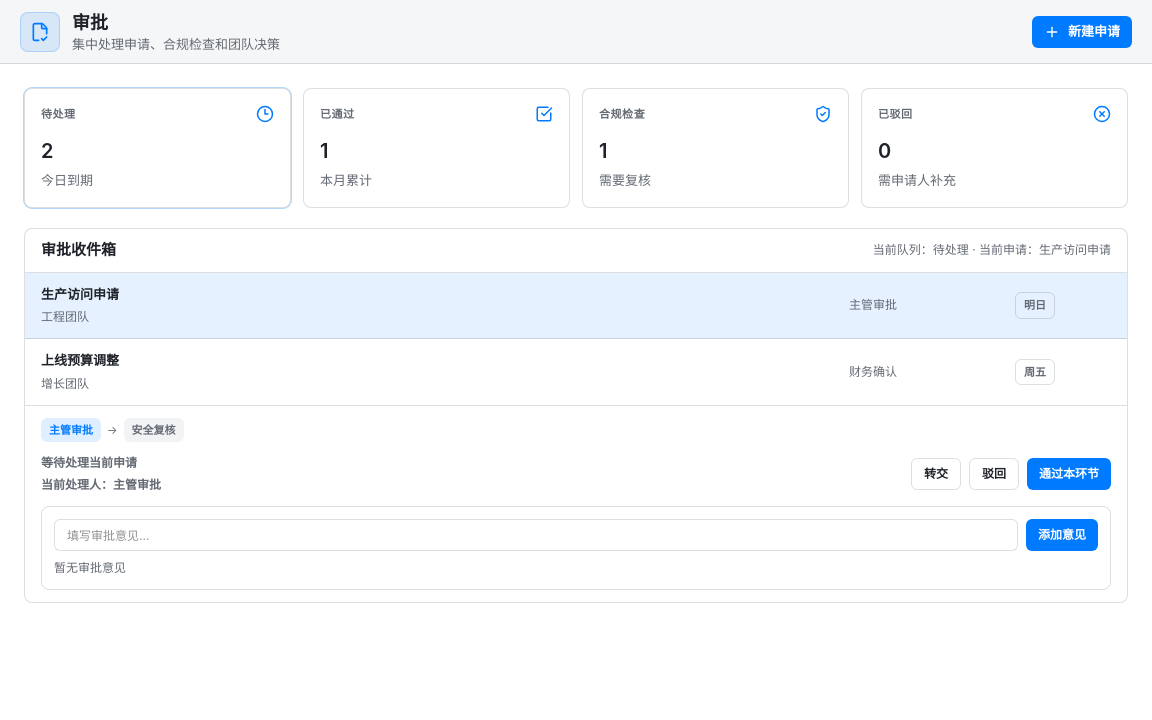
Test case: workspace secondary pages › lets approvals filter queues and create a request locally
The width and height of the screenshot is (1152, 720).
Click the element with test id "approvals-queue-compliance" at (716, 148), box [582,88,849,208]
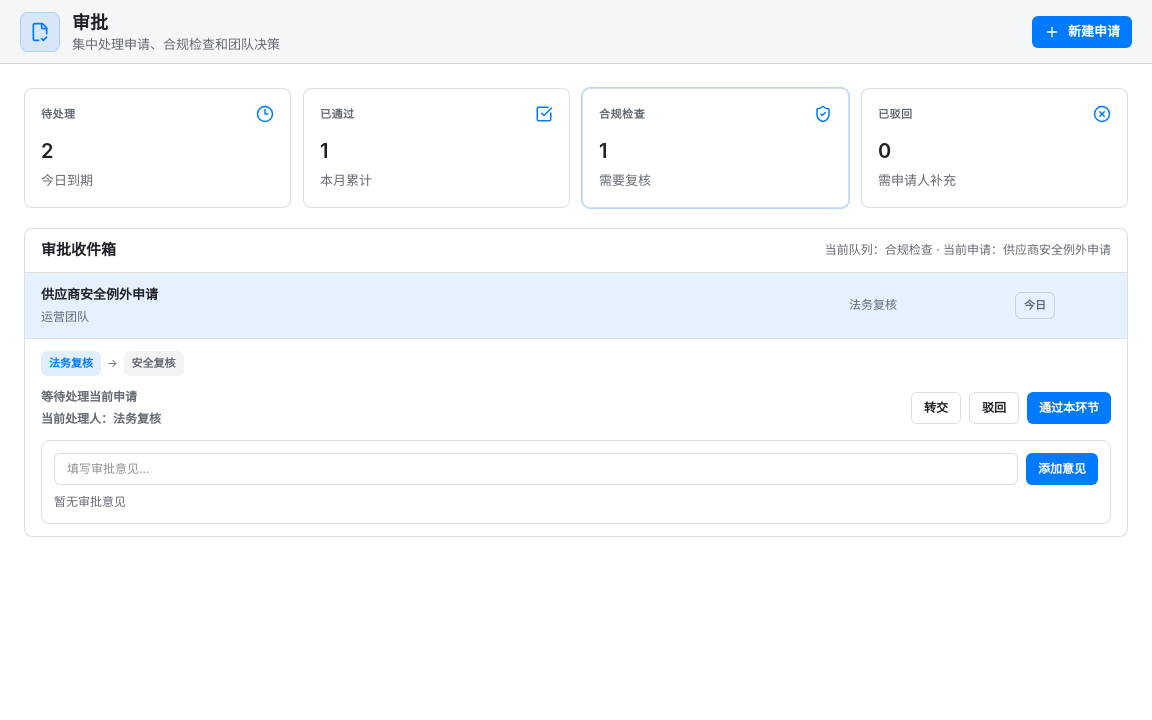
Expected: the text "当前队列：合规检查" is shown, [825,242,936,257]
Expected: the text "供应商安全例外申请" is shown, [936,242,1111,257]
Expected: the text "生产访问申请" is gone
Click the button with test id "approvals-new-request" at (1082, 32), box [1032,16,1132,48]
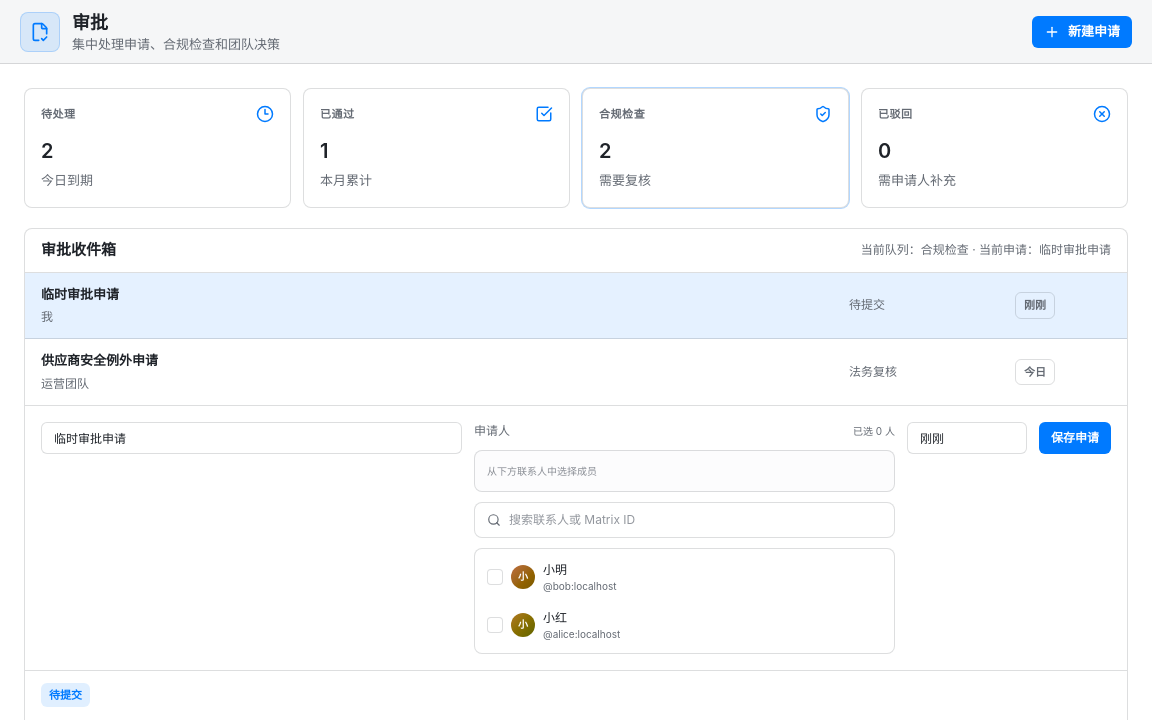
Expected: the text "临时审批申请" is shown, [972,242,1111,257]
